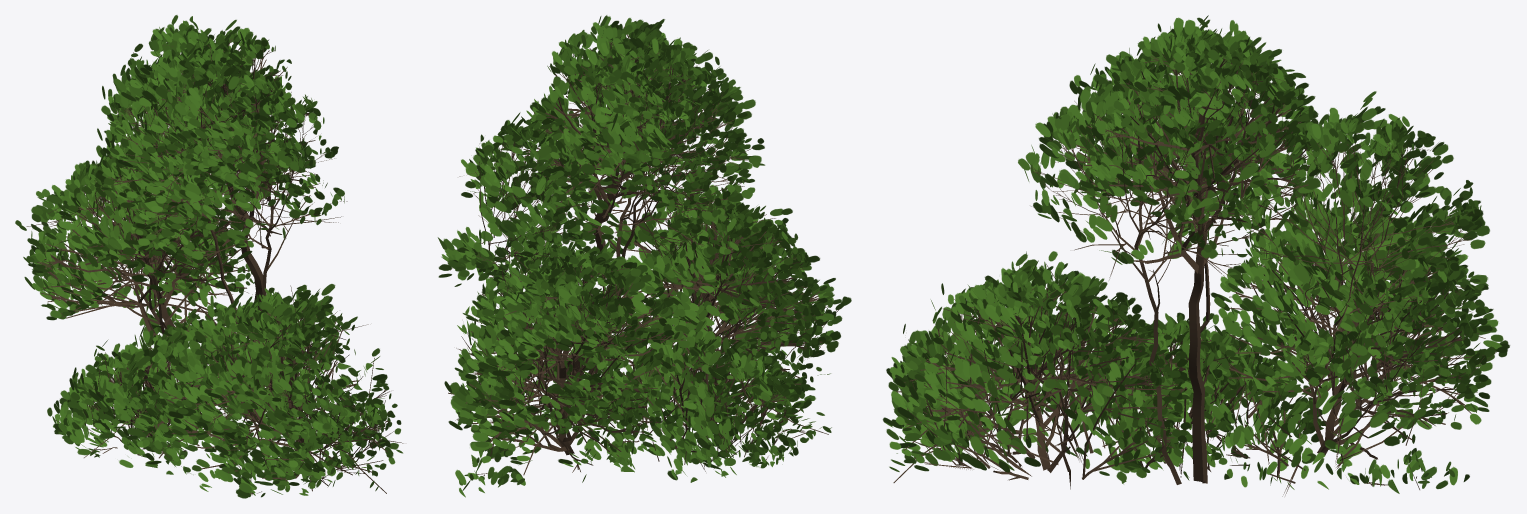
3 views of the same model, side by side, from view 1: azimuth 30°, elevation 25°; view 2: azimuth 150°, elevation 25°; view 3: azimuth 270°, elevation 25° (orthographic). The views are drawn at different scales.
Visible parts, largest first — view 1: oak 01.001_trunk_Mat.001_0.275; view 2: oak 01.001_trunk_Mat.001_0.275; view 3: oak 01.001_trunk_Mat.001_0.275.
Boxes of the visible parts, <box> form: oak 01.001_trunk_Mat.001_0.275: <box>15,15,403,498</box>; oak 01.001_trunk_Mat.001_0.275: <box>437,15,851,497</box>; oak 01.001_trunk_Mat.001_0.275: <box>882,15,1509,496</box>.
Size of the model in its own units: 2.44 by 3.57 by 4.51.
Materials: 2 (1 with a texture image).
